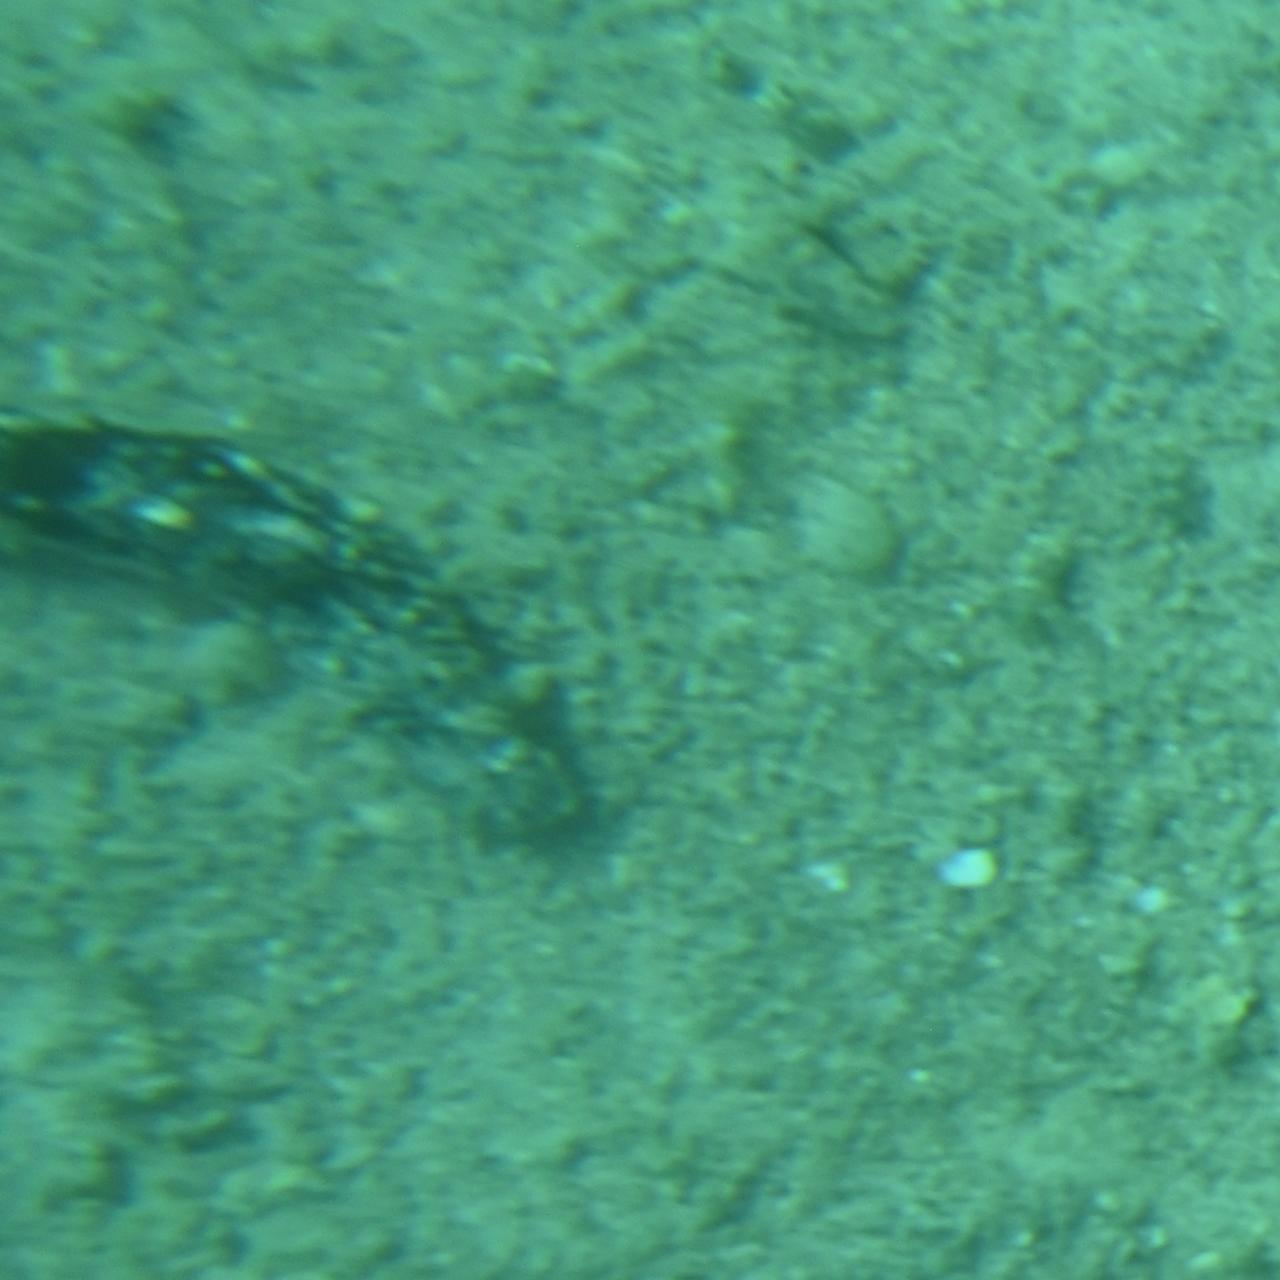Holothuria tubulosa: (0, 412, 614, 868)
